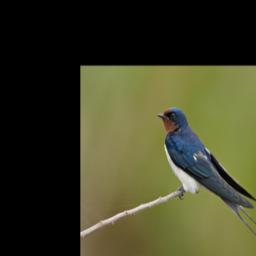Swallow: (156, 107, 256, 246)
